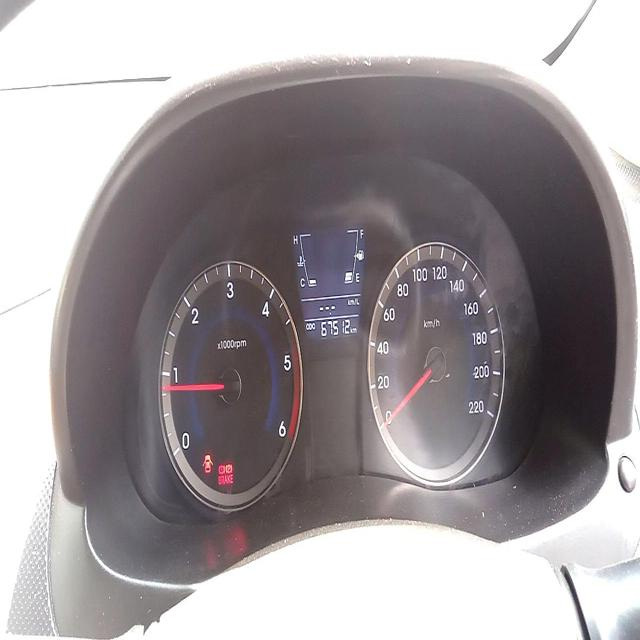odometer: (316, 317, 350, 336)
